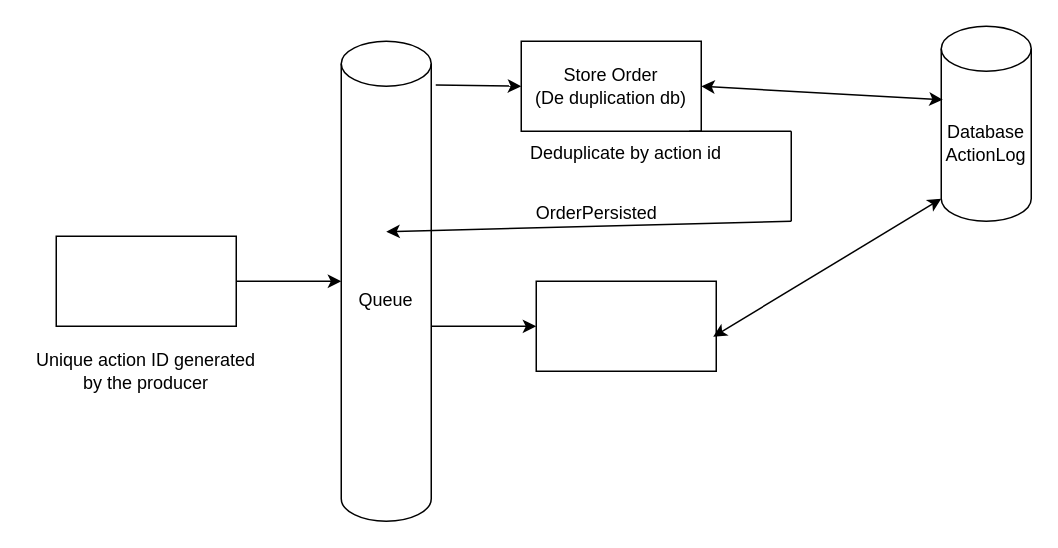
This 1058x548 diagram has some shape labels left out. The shapes that lost their labels are listed below. From the top down, each one's centre as x and y in pixels, then its label:
(x=145, y=280): Producer
(x=625, y=325): Other consumers.....
